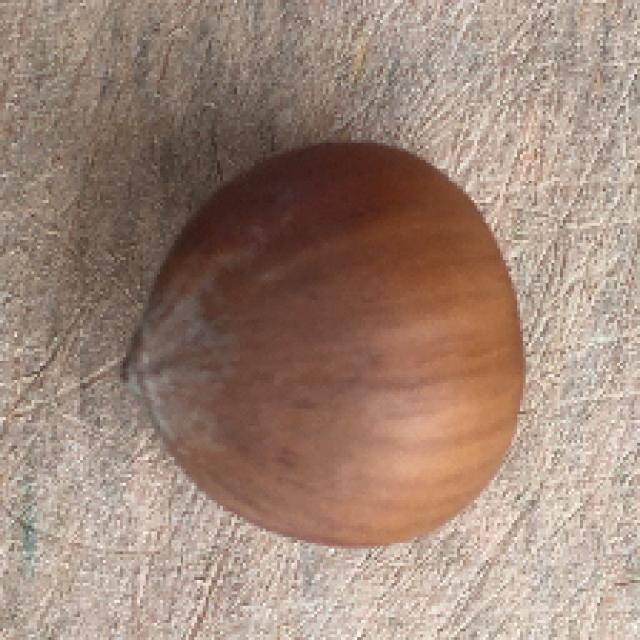qualityHazelnut: (114, 128, 538, 555)
